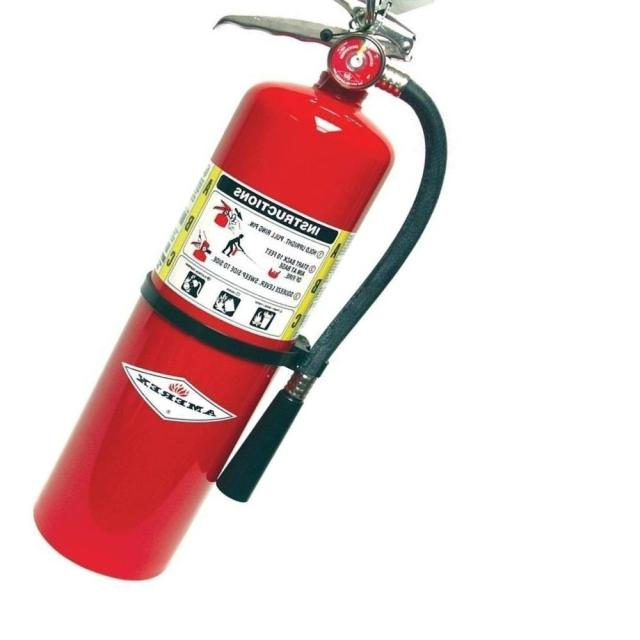fire_extinguisher: (25, 0, 453, 587)
